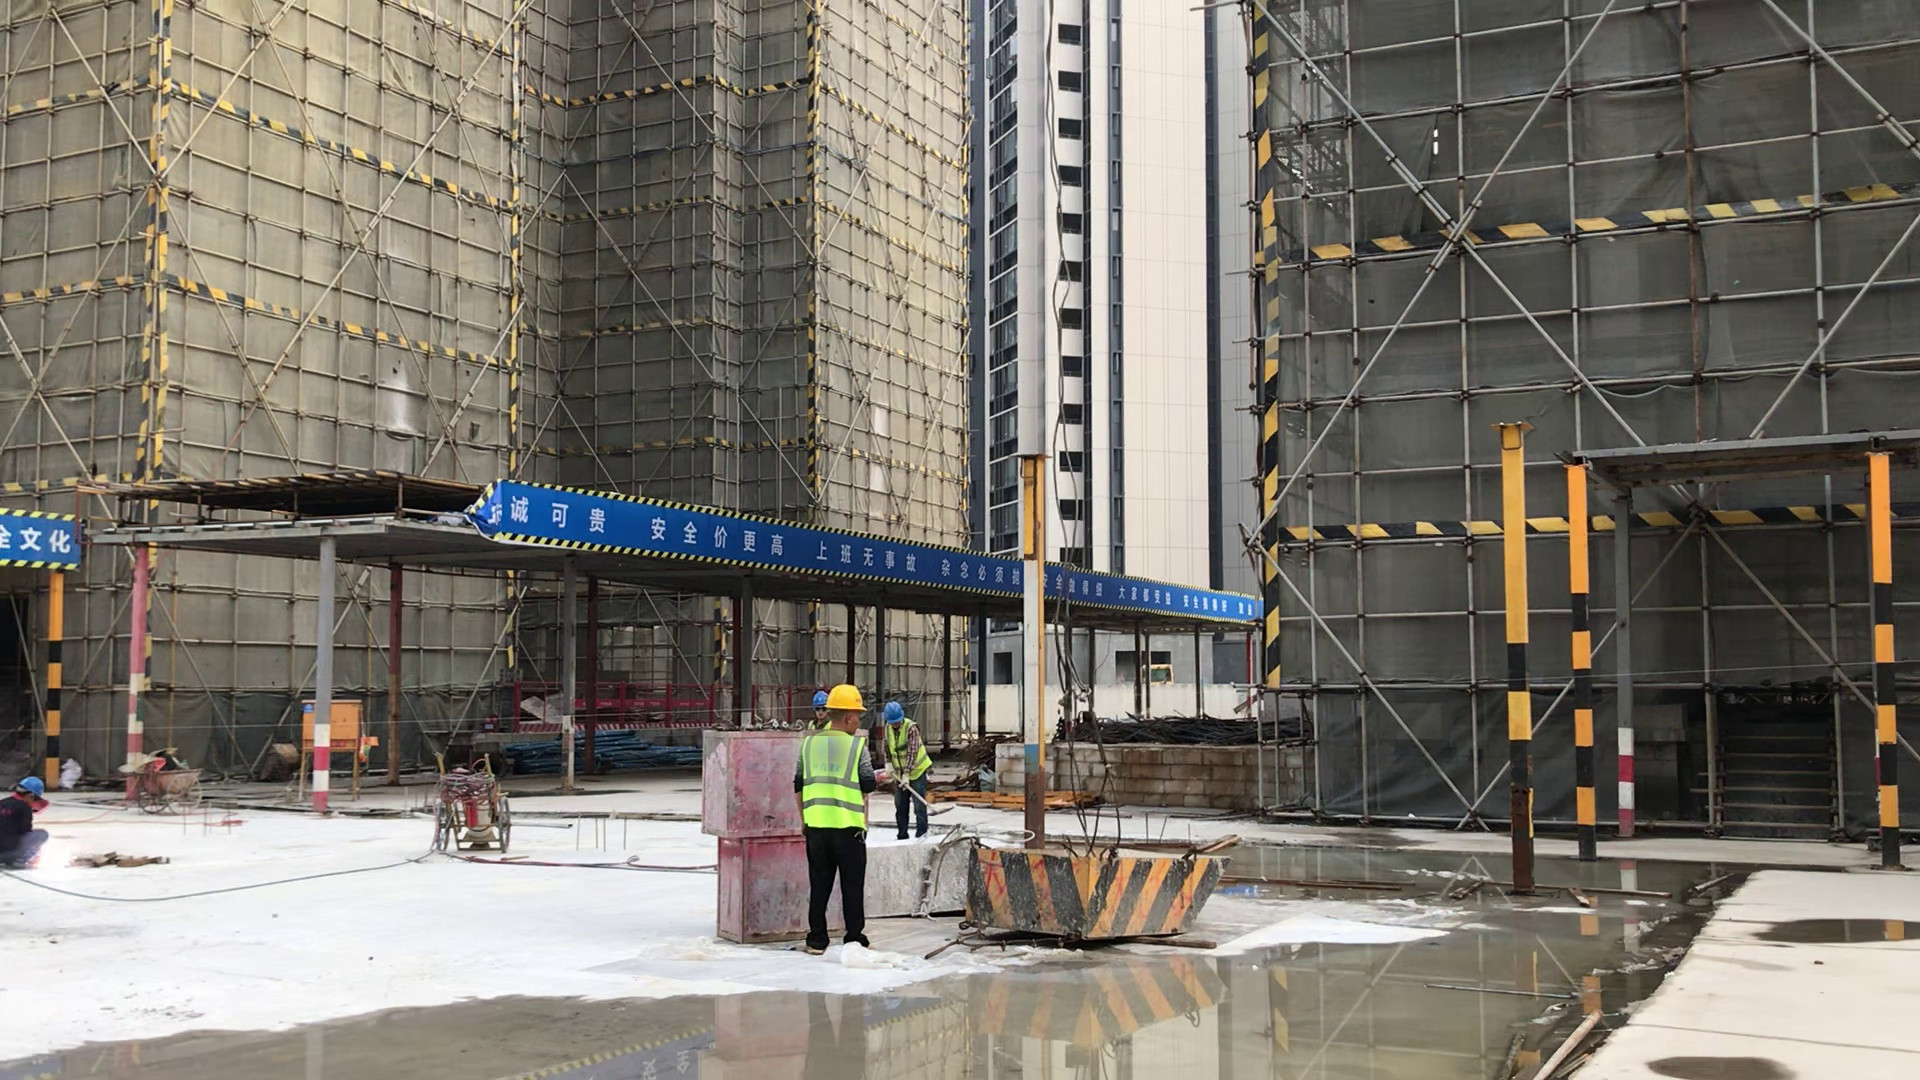ebox: (297, 693, 361, 745)
fence: (517, 689, 808, 737)
handcart: (438, 751, 509, 854)
helmet: (828, 684, 867, 710), (884, 702, 903, 724), (812, 691, 827, 706)
hopper: (967, 839, 1225, 943), (866, 837, 974, 912)
person: (799, 687, 876, 956), (879, 699, 932, 843), (806, 691, 830, 731)
slogan: (496, 483, 1262, 626)
vest: (801, 727, 869, 827), (888, 723, 929, 781)
